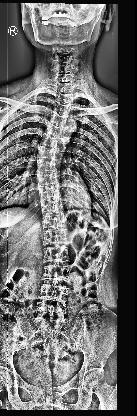Vertebrae: (31, 301, 75, 321), (37, 284, 75, 302), (40, 266, 76, 282), (38, 247, 76, 262), (38, 214, 74, 228), (39, 230, 73, 244), (38, 200, 70, 212), (36, 172, 62, 186), (34, 158, 62, 170), (35, 188, 68, 198), (34, 146, 58, 158), (39, 134, 61, 146), (44, 126, 68, 136), (50, 114, 70, 126), (54, 102, 72, 112), (56, 92, 74, 102)
